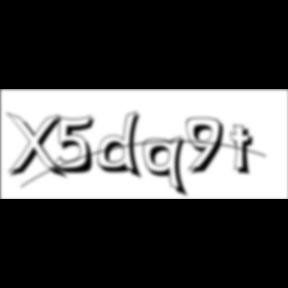5: (54, 114, 100, 176)
9: (186, 117, 230, 177)
X: (6, 112, 70, 182)
d: (98, 110, 148, 182)
q: (144, 135, 192, 200)
t: (230, 124, 260, 179)
